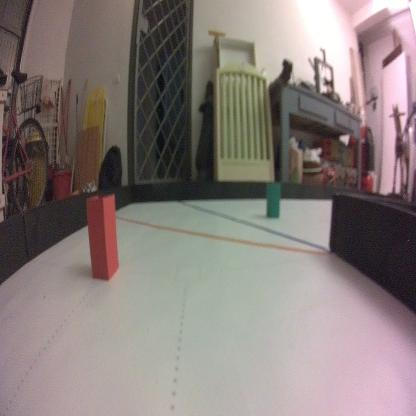green: (266, 181, 281, 219)
red: (84, 192, 119, 283)
